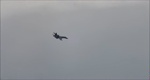maybay_muctieu: (53, 32, 69, 41)
